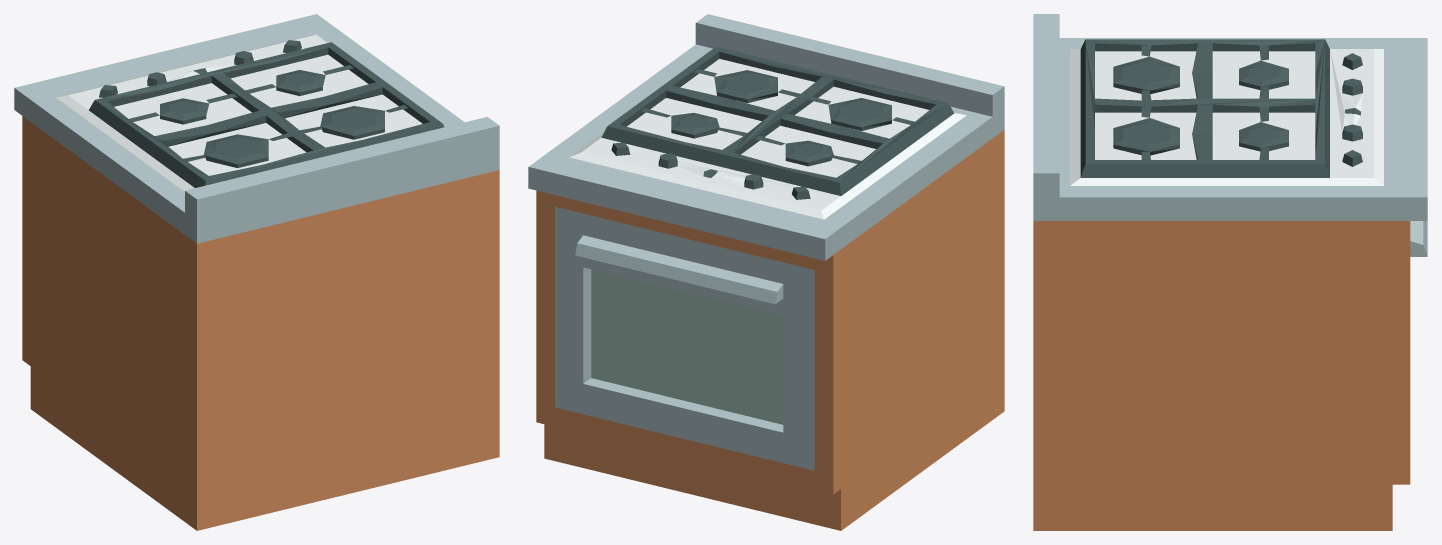
The model's file is kitchenStove_vita.obj.
3 renders of one model, left to right at view 1: azimuth 30°, elevation 25°; view 2: azimuth 150°, elevation 25°; view 3: azimuth 270°, elevation 25°, orthographic. The views are drawn at different scales.
Bounding box in the file's own units: 0.43 × 0.45 × 0.45.
